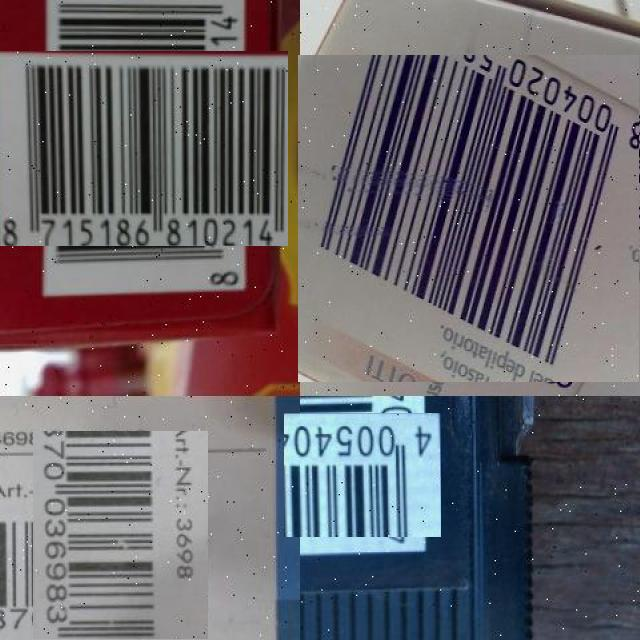Barcode: (305, 47, 640, 389), (16, 25, 262, 272), (16, 447, 224, 640), (292, 404, 433, 545)
